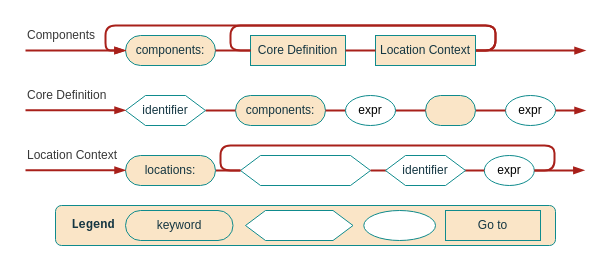
Image size: 611x263. Some labels were removed from this diagram. The shapes that lost their labels are listed below. From the top down, each one's centre as x and y in pixels, then its label:
(450,110): type:
(305,170): location identifier
(298,225): variable
(399,225): String
